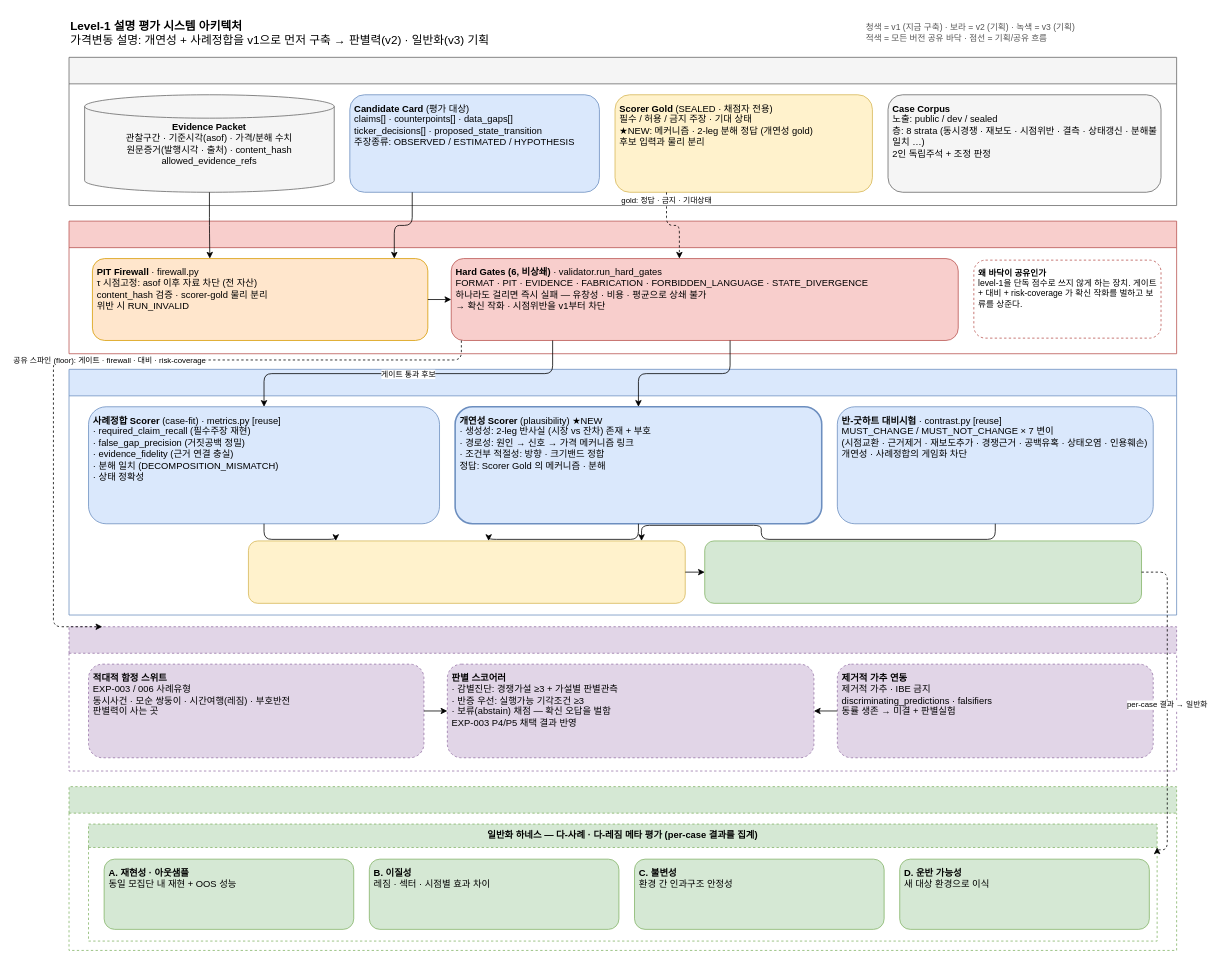
The diagram is 1221 pixels wide and 964 high, and some of its shapes have lost their labels. The shapes that lost their labels are listed below. From the top down, each one's box as (x1, y1, x2, y2) in pixels, then its label:
(68, 57, 1177, 206): 입력 · 계약 (Inputs & Contracts — Phase 0 고정)
(68, 220, 1177, 354): 공통 스파인 · 하드 게이트 (Shared Spine · 비상쇄 바닥 — 모든 버전 공유)
(68, 369, 1177, 615): v1 — Level-1 채점: 개연성 + 사례정합 ▶ 지금 구축
(248, 540, 685, 603): 집계 · metrics / reporting.py risk-coverage (보정된 보류) · 0.6:0.4 보조손실 · 층별 / 거시 평균
(704, 540, 1142, 603): 정당화 인증서 + 실행영수증 → 연구 · 감사 등급 Report 버전 · 해시 고정 · 채점자 소유 (후보가 통과 선언 불가)
(68, 626, 1177, 771): v2 — 판별력 (증명 6: 감별진단 · 반증 · 민감도) ▶ 기획
(68, 786, 1177, 950): v3 — 일반화 (A~D) ▶ 기획
